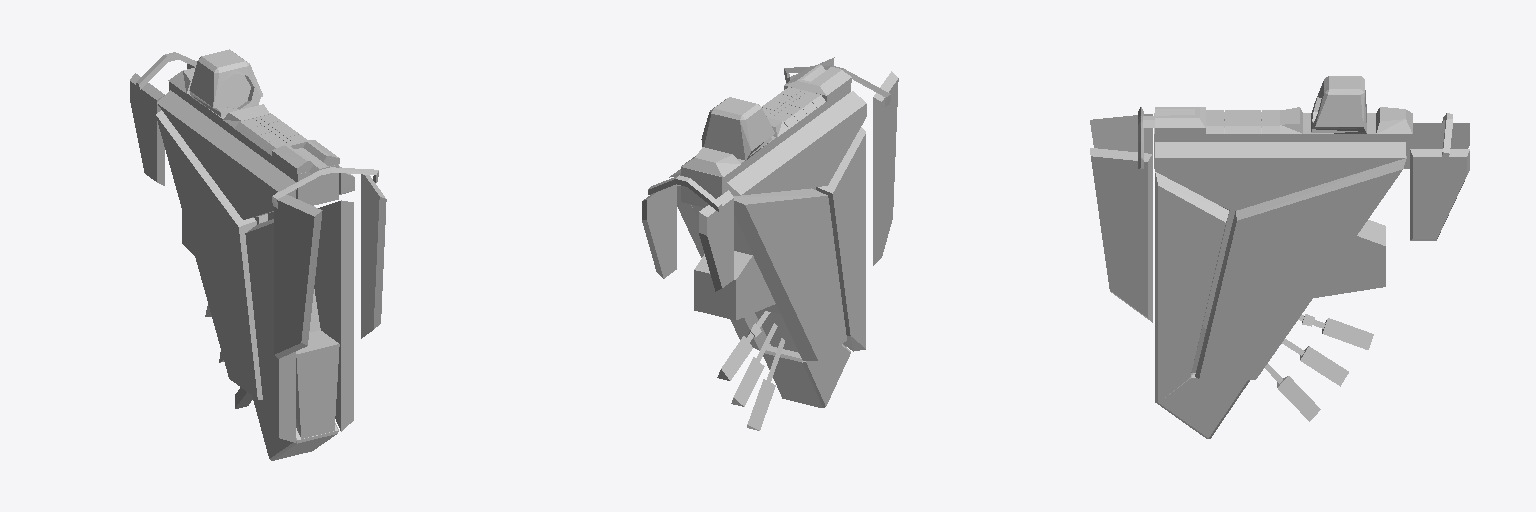
File: BattleshipEnemy_Model.obj
3 renders of one model, left to right at view 1: azimuth 30°, elevation 25°; view 2: azimuth 150°, elevation 25°; view 3: azimuth 270°, elevation 25°, orthographic.
Parts seen in each view (by area): view 1: BattleshipEnemy_Mesh BattleshipEnemy_Mesh_grp; view 2: BattleshipEnemy_Mesh BattleshipEnemy_Mesh_grp; view 3: BattleshipEnemy_Mesh BattleshipEnemy_Mesh_grp.
Part boxes in pixels (left/top/right/bottom): BattleshipEnemy_Mesh BattleshipEnemy_Mesh_grp: left=130, top=49, right=386, bottom=460; BattleshipEnemy_Mesh BattleshipEnemy_Mesh_grp: left=642, top=57, right=898, bottom=430; BattleshipEnemy_Mesh BattleshipEnemy_Mesh_grp: left=1090, top=76, right=1469, bottom=438.
Size of the model in its own units: 141 by 437 by 434.